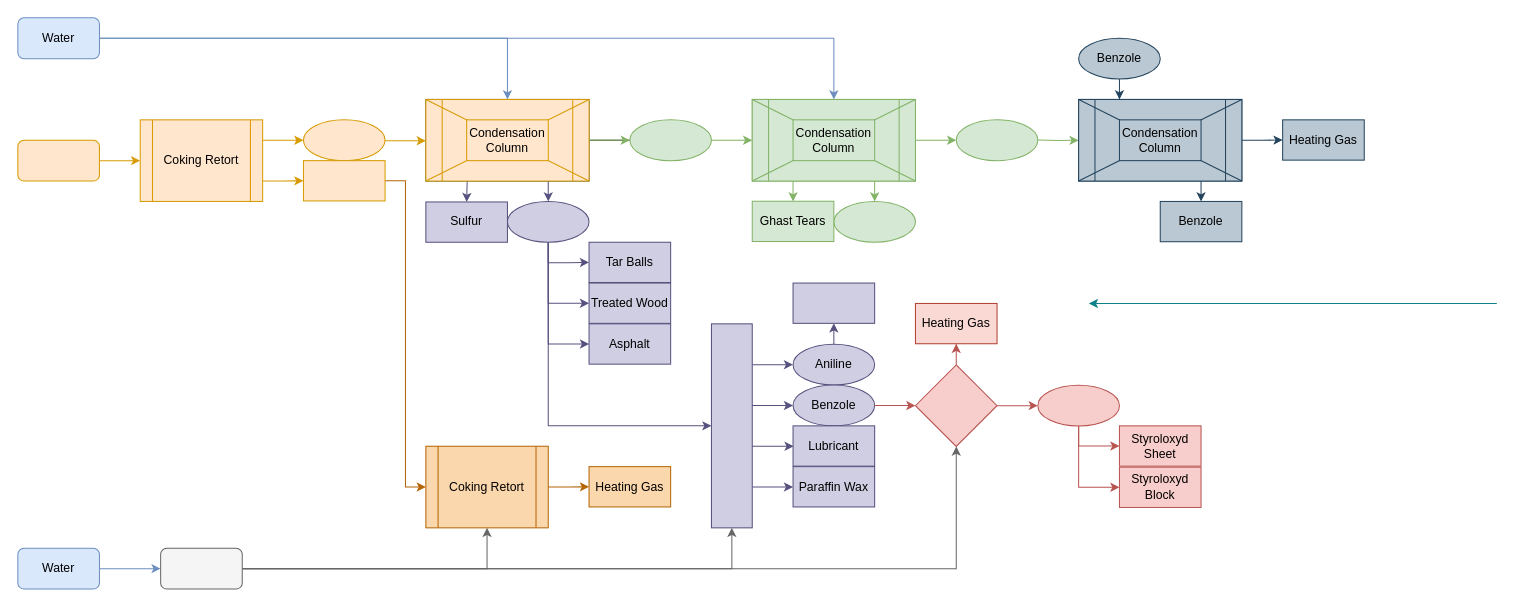
This 1523x607 diagram has some shape labels left out. The shapes that lost their labels are listed below. From the top down, each one's centre as x and y in pixels, then its label:
(58,160): Coal
(343,140): Retort Gas
(670,140): Ammoniacal Gas
(996,140): Lighting Gas
(343,180): Coal Coke
(547,221): Coal Tar
(874,221): Ammoniacal Liqour
(833,302): Synthetic Dye
(731,425): Steam Distillation Column
(955,405): PRU
(1078,405): Raw Styroloxyd
(201,568): Process Steam
